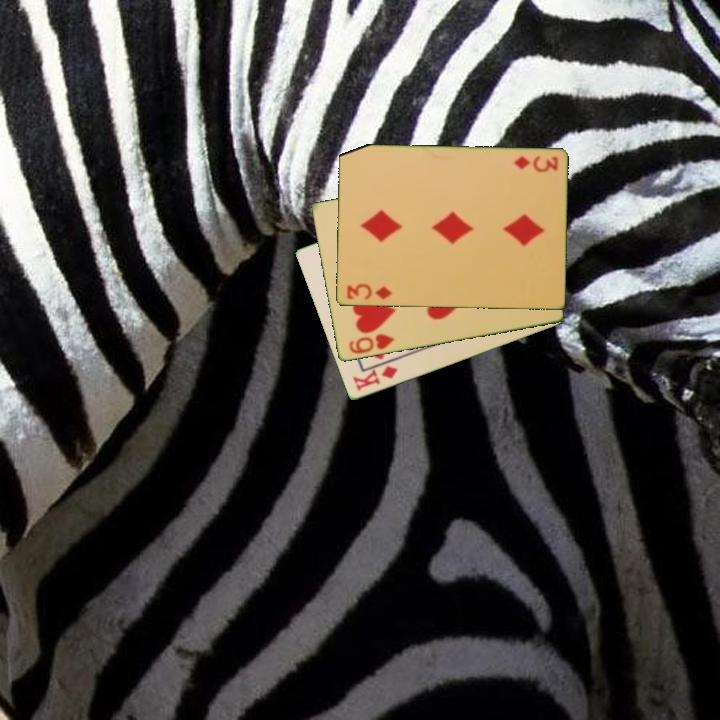3d: (343, 281, 394, 303), (510, 153, 560, 174)
6h: (345, 331, 397, 357)
Kd: (349, 362, 400, 395)
